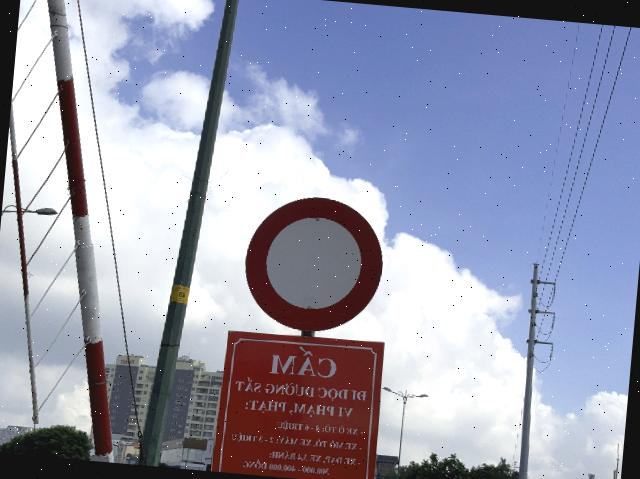duong-cam: (240, 191, 388, 336)
